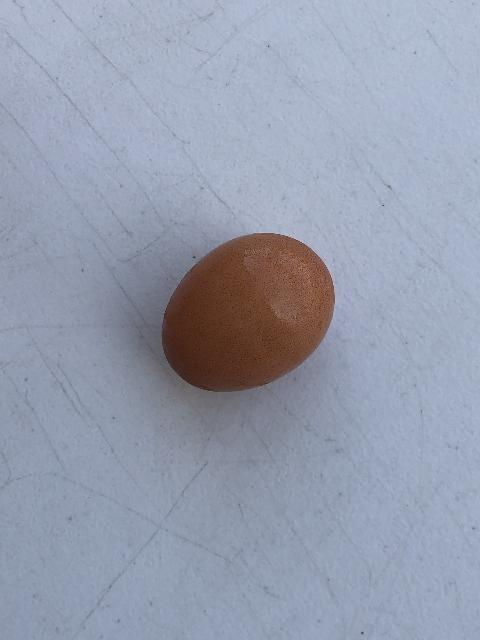Sano: (160, 231, 335, 393)
